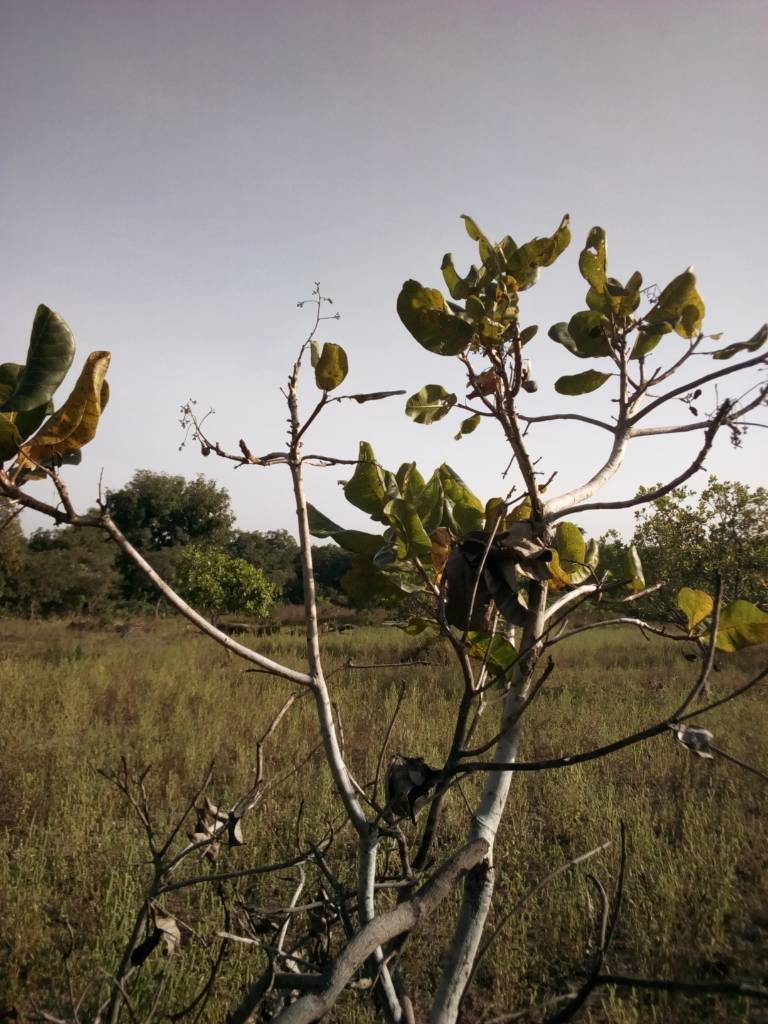Helopeltis anacardii: (36, 347, 115, 441), (475, 210, 569, 289), (13, 305, 71, 414), (636, 269, 713, 346), (399, 280, 469, 358), (371, 499, 435, 572), (535, 524, 600, 588), (407, 383, 455, 432)
